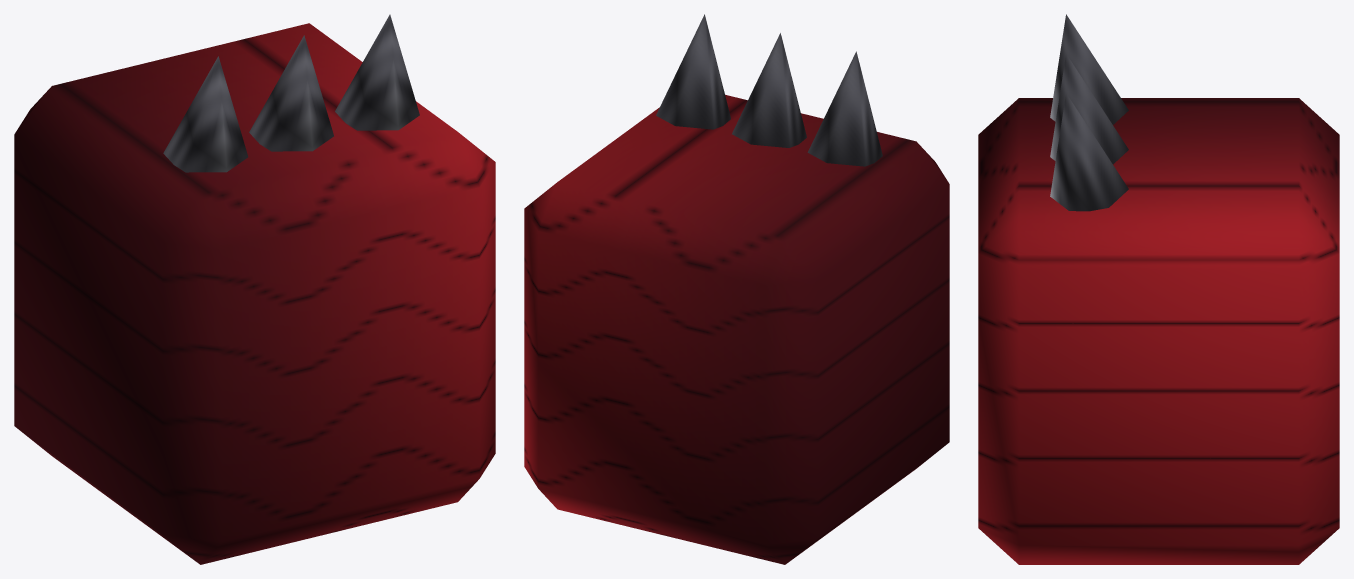
Rendered from parasite_brute_brute_arm.obj.
3 renders of one model, left to right at view 1: azimuth 30°, elevation 25°; view 2: azimuth 150°, elevation 25°; view 3: azimuth 270°, elevation 25°, orthographic. The views are drawn at different scales.
Parts seen in each view (by area): view 1: brute_brute_arm; view 2: brute_brute_arm; view 3: brute_brute_arm.
Part boxes in pixels (left/top/right/bottom): brute_brute_arm: left=14, top=14, right=495, bottom=564; brute_brute_arm: left=524, top=14, right=949, bottom=564; brute_brute_arm: left=978, top=14, right=1339, bottom=564.
Size of the model in its own units: 0.3876 by 0.535 by 0.3876.
